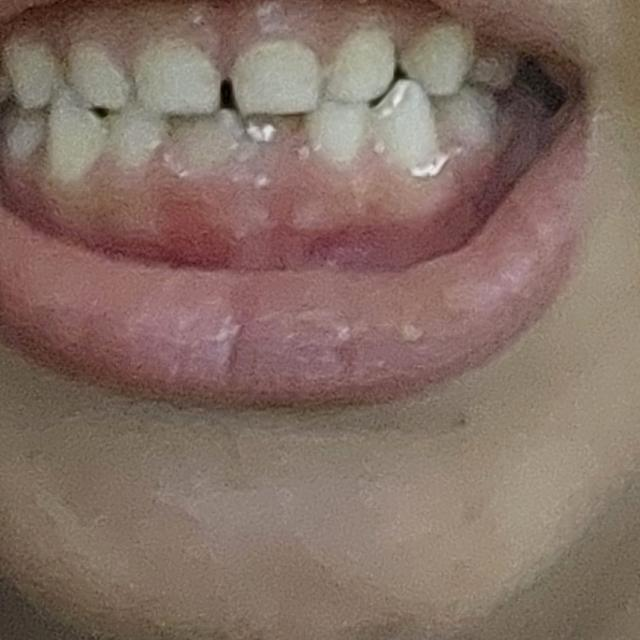tooth: (230, 57, 338, 126), (361, 98, 453, 164), (138, 52, 222, 123), (65, 36, 131, 111), (111, 110, 175, 176), (178, 126, 245, 188), (298, 103, 363, 163), (48, 106, 110, 167), (12, 46, 68, 106), (403, 35, 461, 90), (334, 48, 388, 95)
